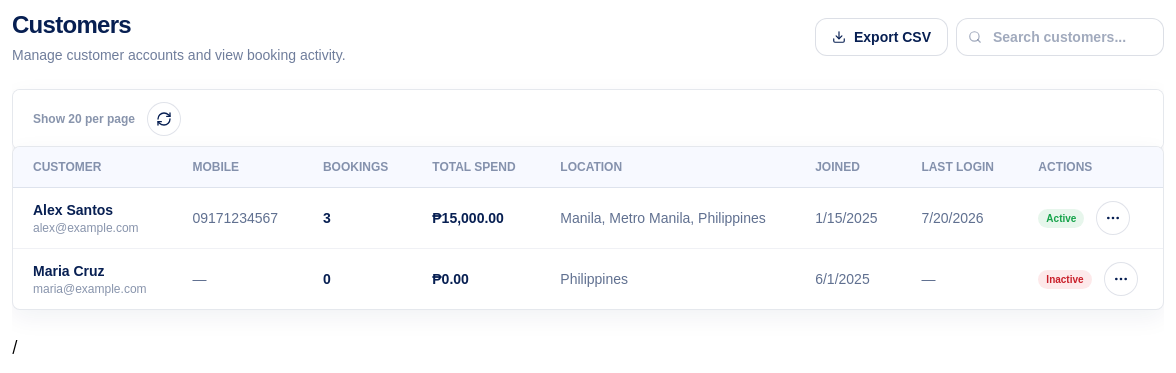
Test: Admin Customers › navigates to customer details when a row is clicked
The image size is (1176, 373).
Click the row named "View customer Alex Santos". click: [588, 218]
box: left=13, top=188, right=1163, bottom=248
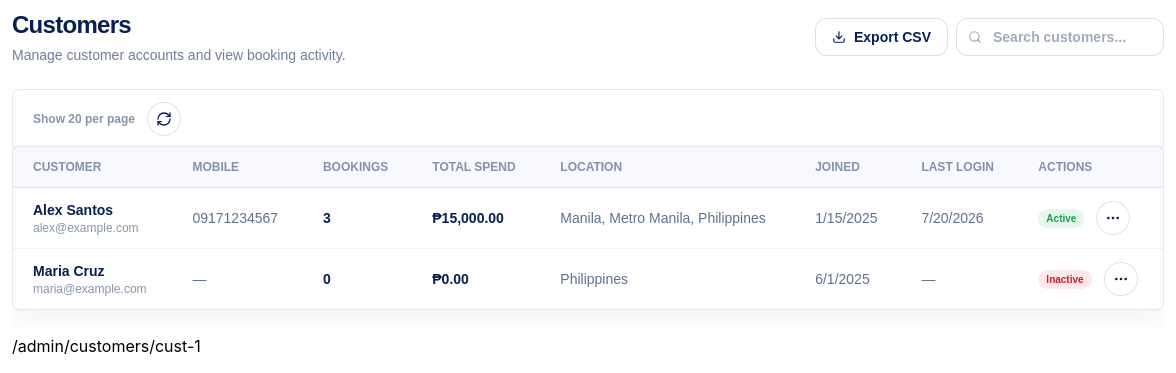
Result: the text with test id "location" reads "/admin/customers/cust-1" at left=12, top=336, right=201, bottom=356
